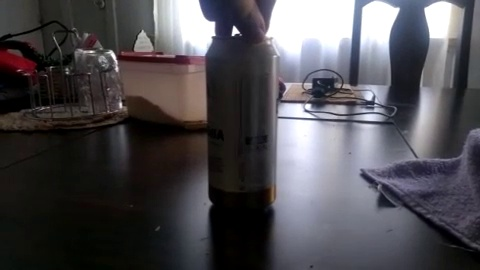bohemia: (189, 33, 289, 216)
